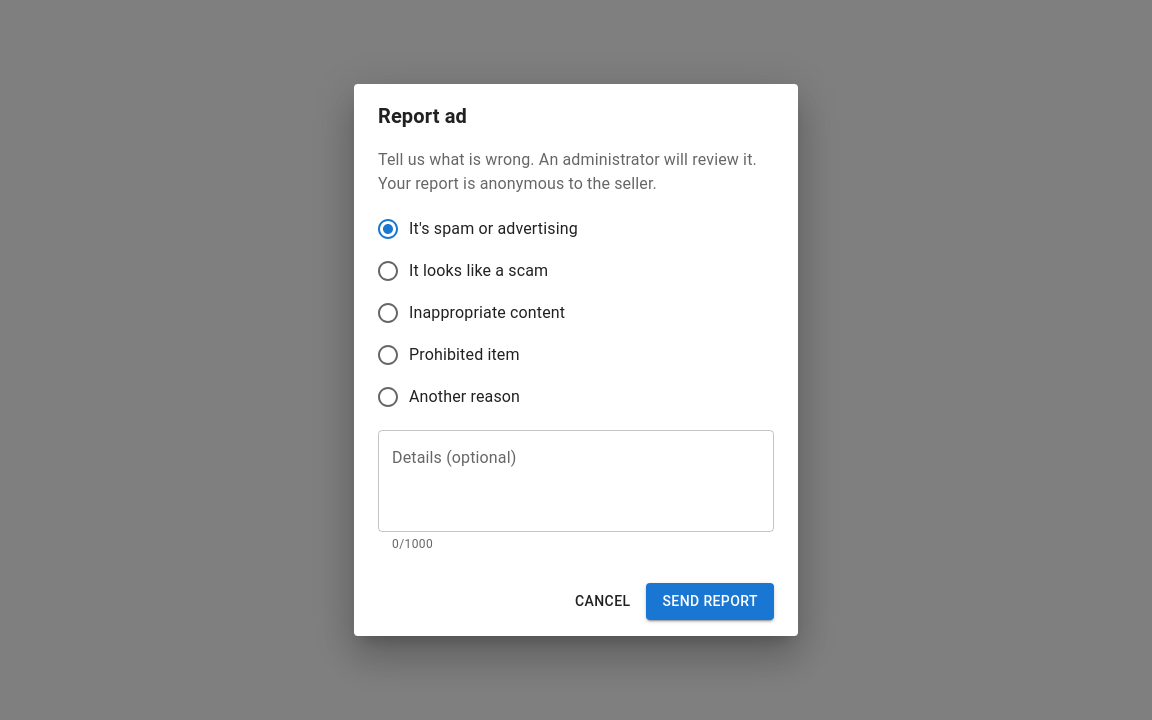
it: ReportDialog › sends the reason that was chosen and closes
The image size is (1152, 720).
Click the radio button labelled "It looks like a scam": (462, 271) [376,259,548,283]
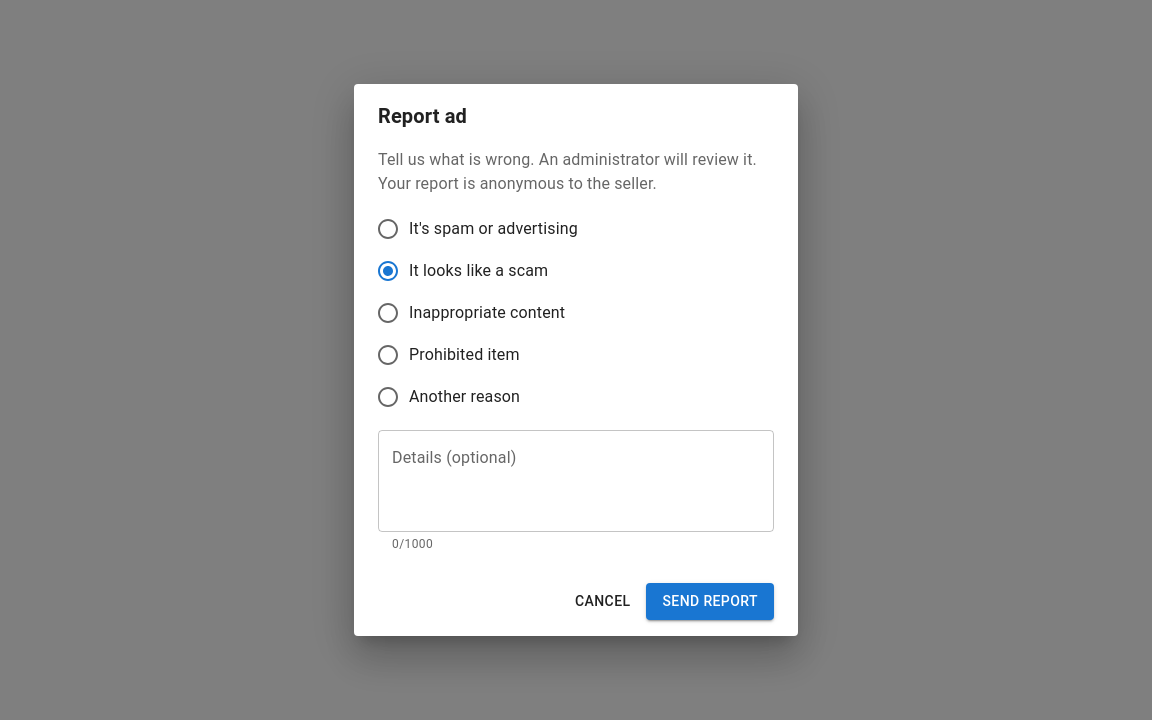
In the text box: (576, 481) [392,447,760,516], type "  Asks for a deposit  "
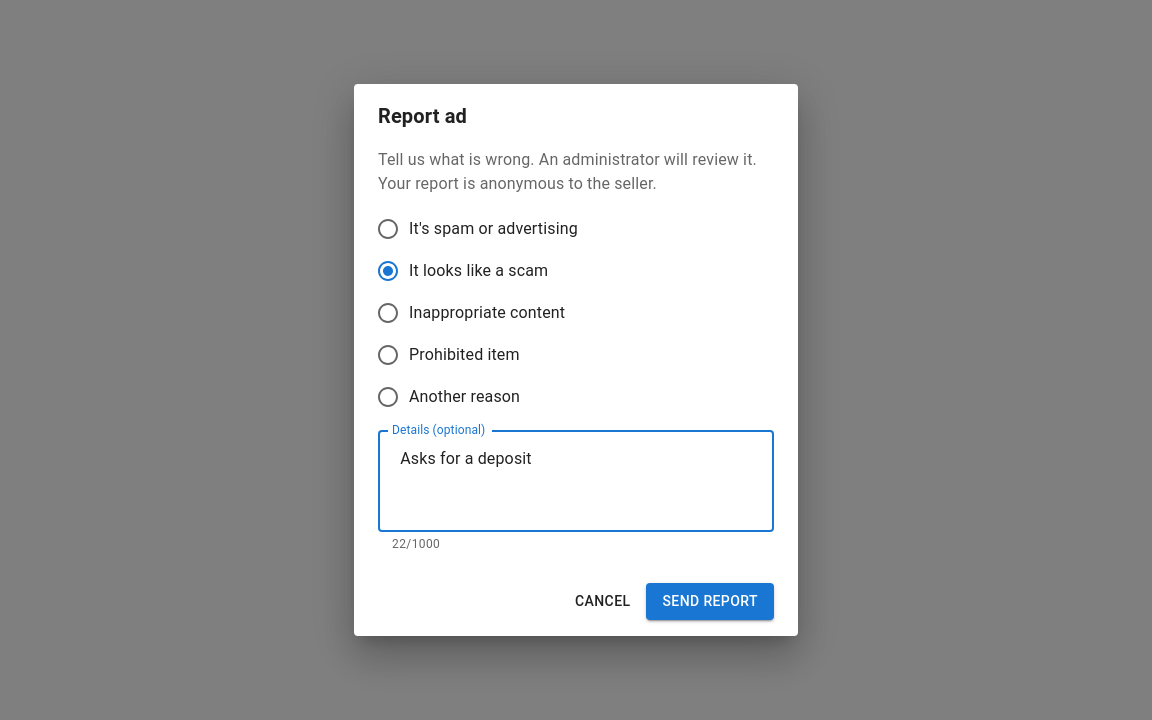
Click the button "Send report": (710, 601) [646,583,774,620]
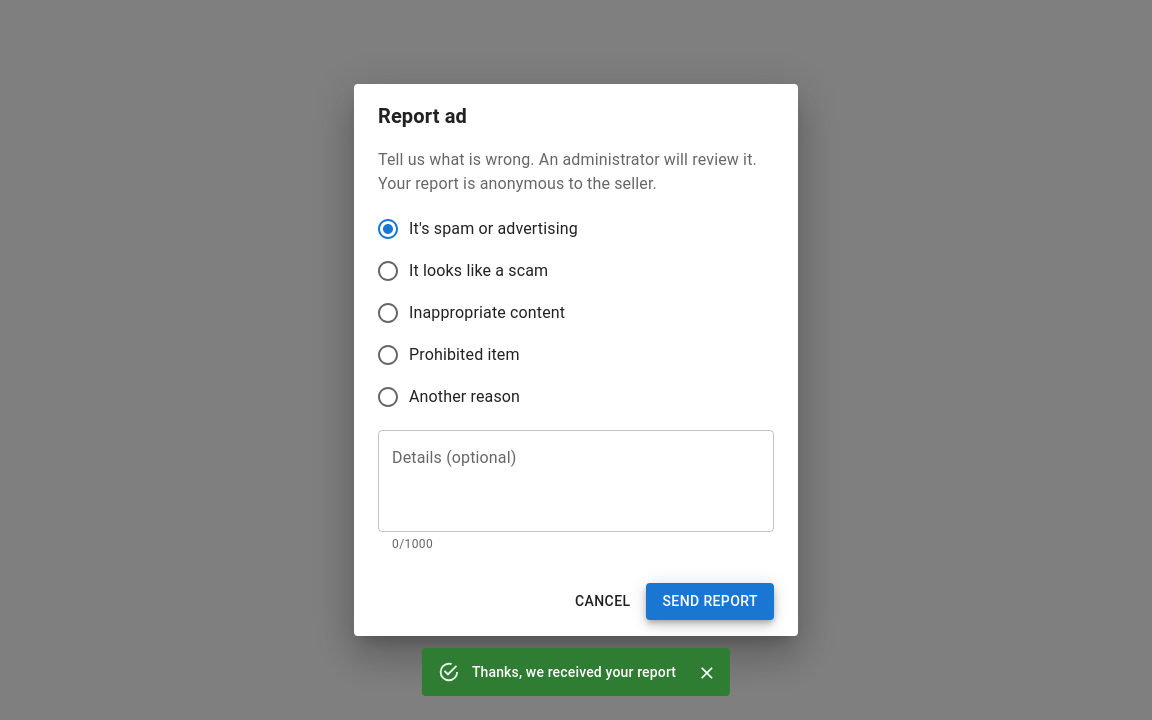
Result: the text "Thanks, we received your report" is shown at [472,664,676,680]
